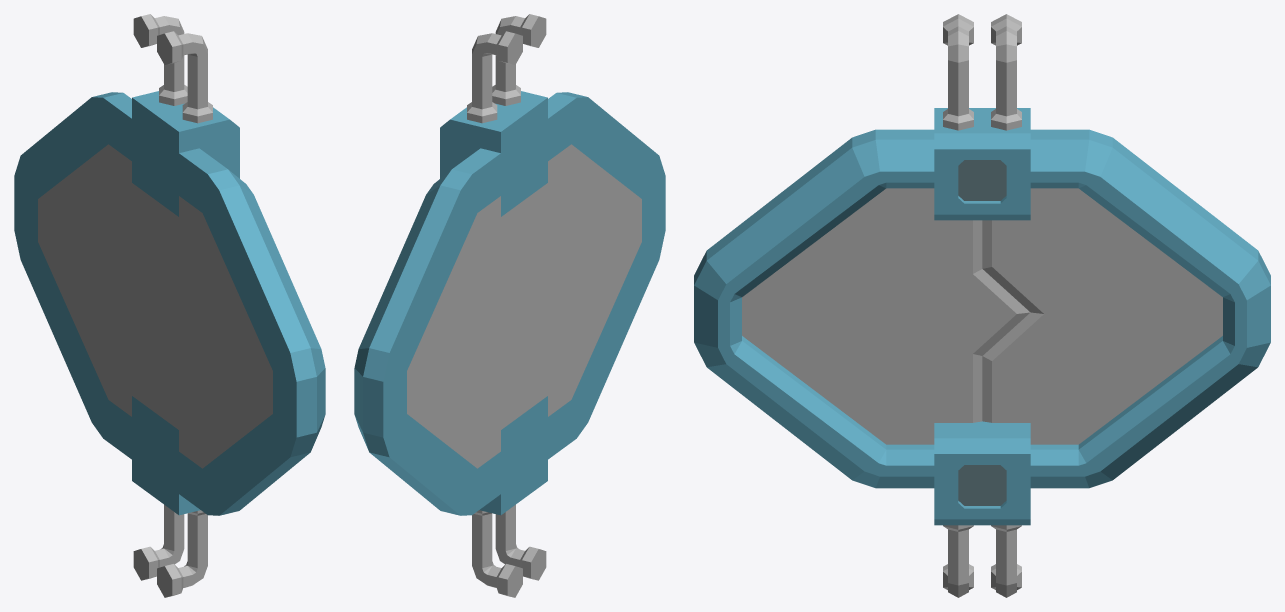
File: spacestation_miscellaneous_bay_door.glb
3 views of the same model, side by side, from view 1: azimuth 30°, elevation 25°; view 2: azimuth 150°, elevation 25°; view 3: azimuth 270°, elevation 25° (orthographic). The views are drawn at different scales.
Size of the model in its own units: 0.1563 by 1.33 by 1.2.
